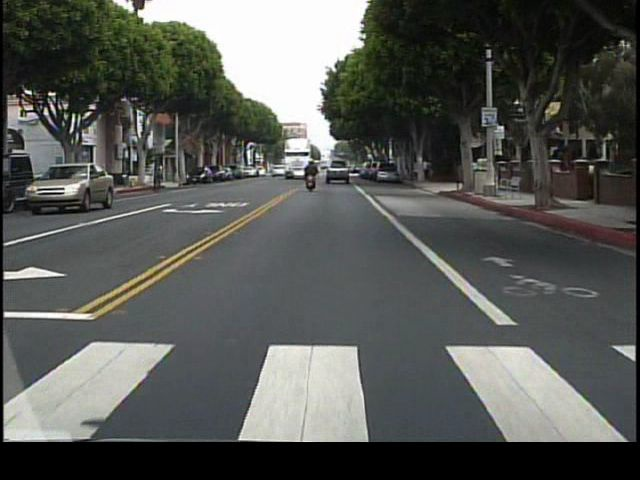person: (304, 157, 322, 199), (150, 161, 168, 192), (428, 157, 436, 185), (423, 158, 429, 181)
